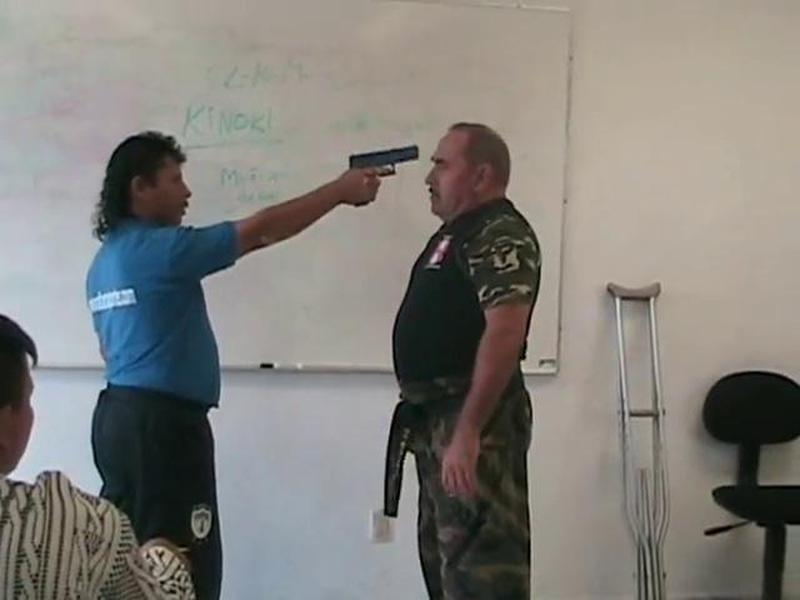Pistola: (347, 140, 431, 217)
